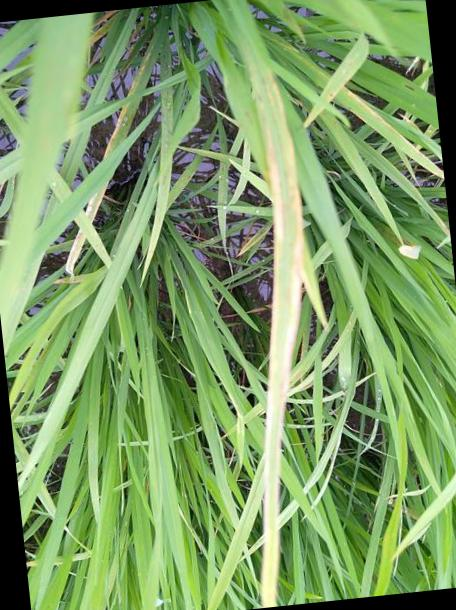Leaf Blight: (212, 0, 303, 608)
